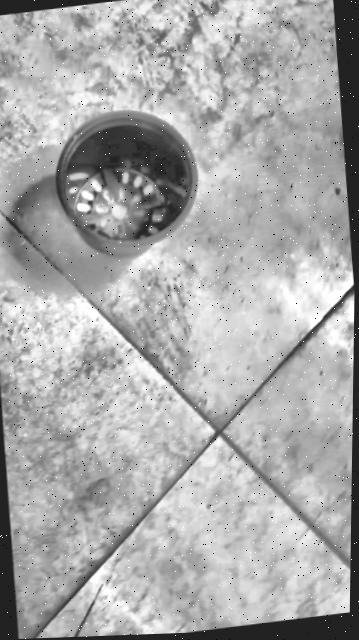pot: (48, 102, 204, 264)
